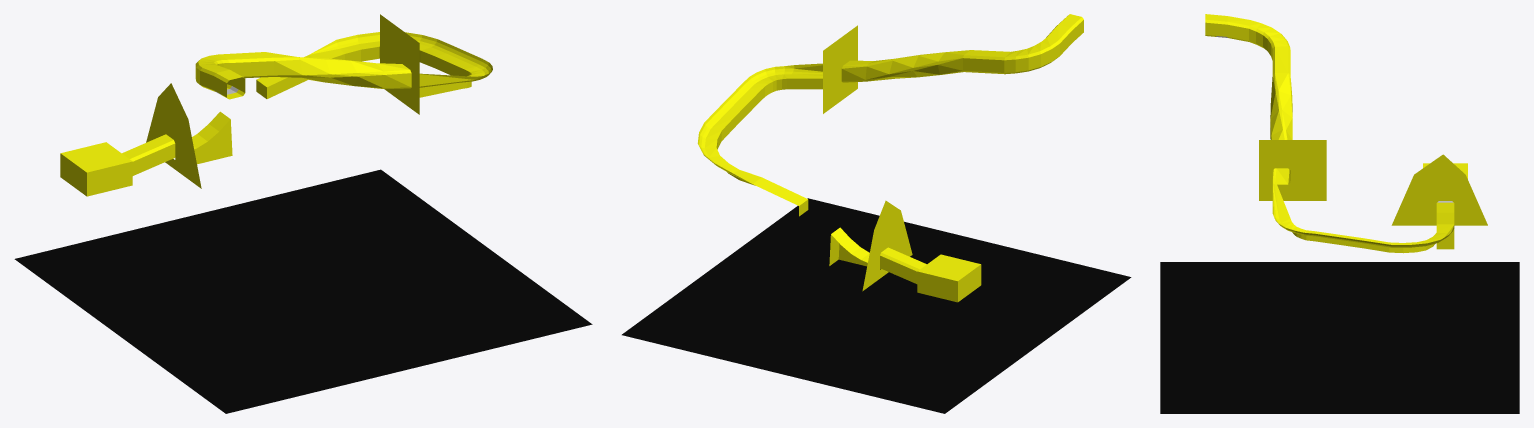
Rendered from ttm_segment7.0x2F0F8.collision.obj.
3 views of the same model, side by side, from view 1: azimuth 30°, elevation 25°; view 2: azimuth 150°, elevation 25°; view 3: azimuth 270°, elevation 25° (orthographic). The views are drawn at different scales.
Parts seen in each view (by area): view 1: ttm_segment7_2F0F8_deathfloor, ttm_segment7_2F0F8_normal; view 2: ttm_segment7_2F0F8_deathfloor, ttm_segment7_2F0F8_normal; view 3: ttm_segment7_2F0F8_deathfloor, ttm_segment7_2F0F8_normal.
Part boxes in pixels (left/top/right/bottom): ttm_segment7_2F0F8_deathfloor: left=14, top=169, right=592, bottom=413; ttm_segment7_2F0F8_normal: left=60, top=14, right=492, bottom=196; ttm_segment7_2F0F8_deathfloor: left=622, top=198, right=1131, bottom=413; ttm_segment7_2F0F8_normal: left=697, top=14, right=1083, bottom=302; ttm_segment7_2F0F8_deathfloor: left=1160, top=262, right=1519, bottom=413; ttm_segment7_2F0F8_normal: left=1205, top=14, right=1487, bottom=253.
Bounding box in the file's own units: 16 × 12.8 × 16.
